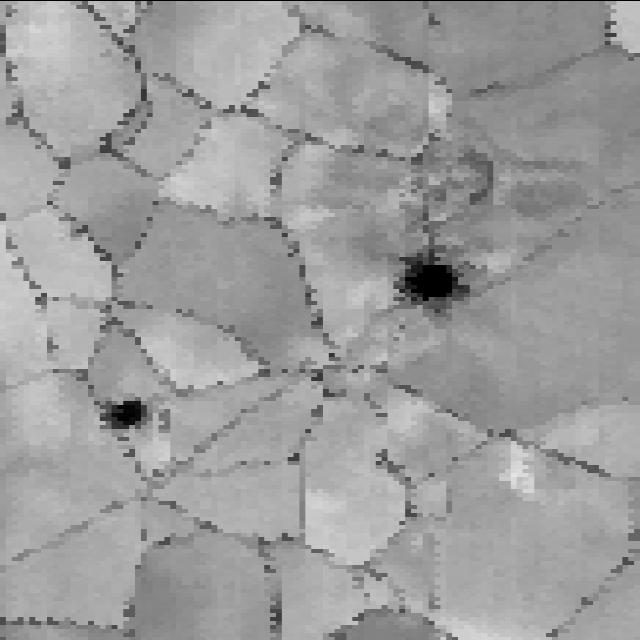good_void: (397, 123, 516, 215), (378, 253, 477, 317), (91, 390, 167, 436), (96, 106, 145, 157)
